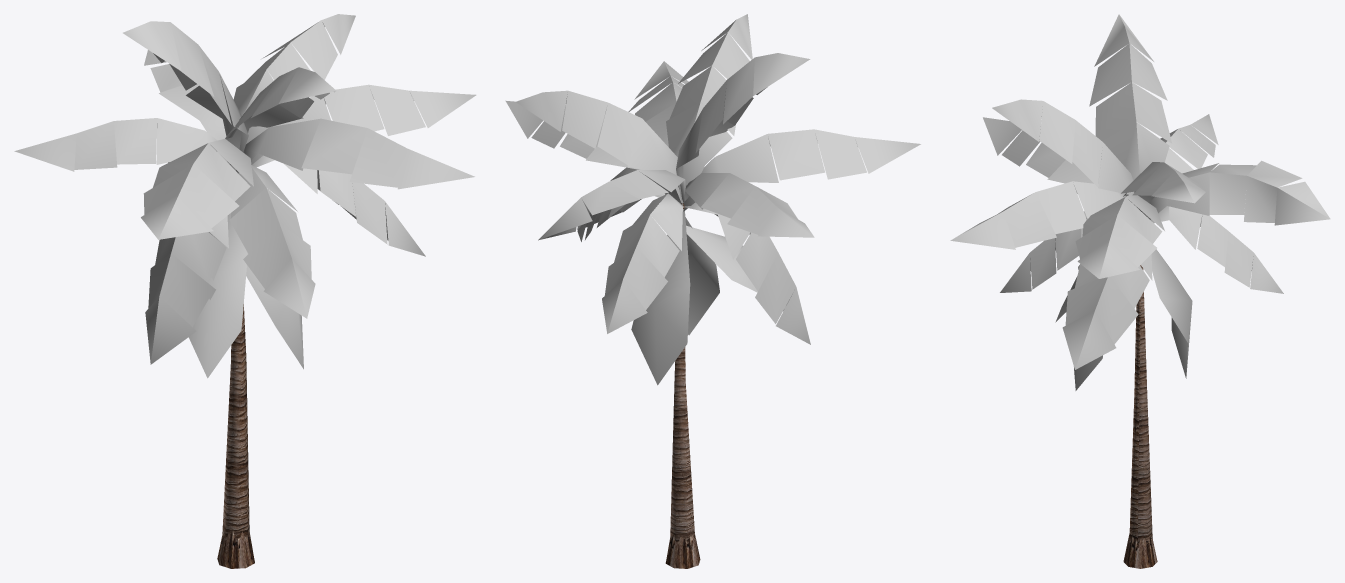
Rendered from palmTree.obj.
3 renders of one model, left to right at view 1: azimuth 30°, elevation 25°; view 2: azimuth 150°, elevation 25°; view 3: azimuth 270°, elevation 25°, orthographic. The views are drawn at different scales.
Visible parts, largest first — view 1: cook_palm_tree_oak_bush_a300.001_tree_oak_bush_a200.003; view 2: cook_palm_tree_oak_bush_a300.001_tree_oak_bush_a200.003; view 3: cook_palm_tree_oak_bush_a300.001_tree_oak_bush_a200.003.
Part boxes in pixels (x1,y1,x2,y2): cook_palm_tree_oak_bush_a300.001_tree_oak_bush_a200.003: (14,14,476,568); cook_palm_tree_oak_bush_a300.001_tree_oak_bush_a200.003: (505,14,920,568); cook_palm_tree_oak_bush_a300.001_tree_oak_bush_a200.003: (950,14,1330,568).
Bounding box in the file's own units: 5.26 × 7.16 × 4.99.
